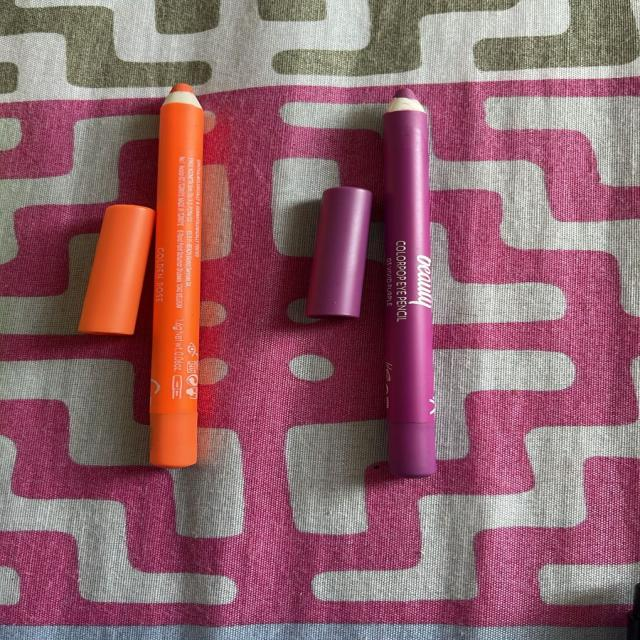eye liner: (350, 69, 474, 496), (124, 61, 232, 488)
